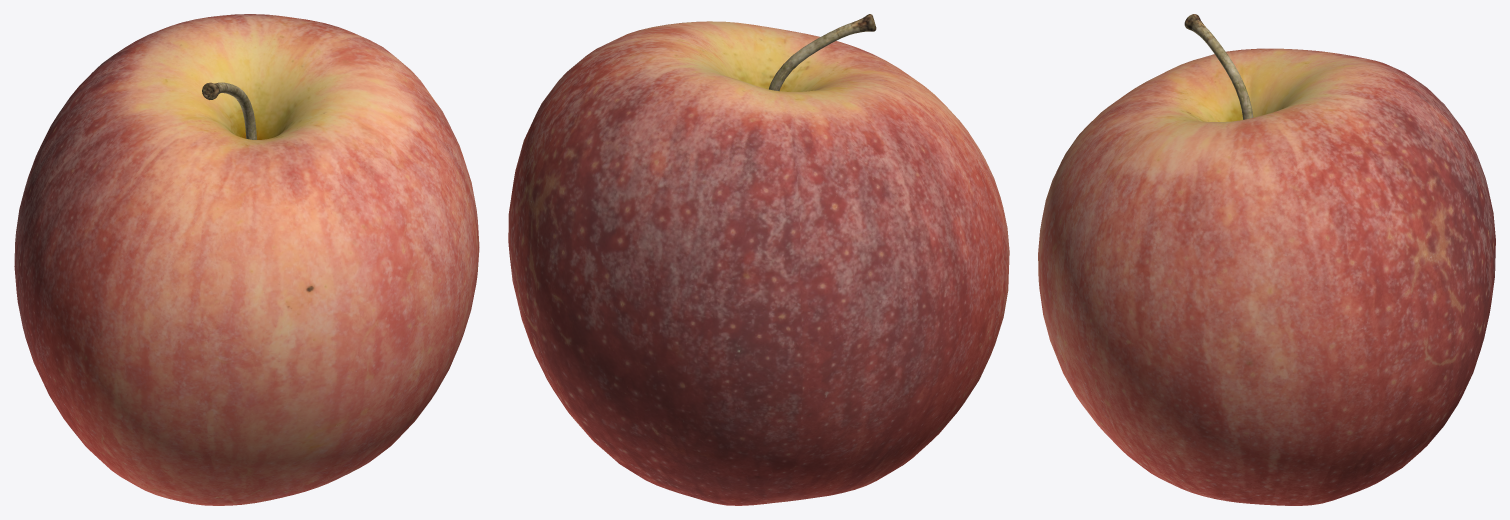
File: apple.gltf
3 renders of one model, left to right at view 1: azimuth 30°, elevation 25°; view 2: azimuth 150°, elevation 25°; view 3: azimuth 270°, elevation 25°, orthographic. The views are drawn at different scales.
Visible parts, largest first — view 1: AppleT4; view 2: AppleT4; view 3: AppleT4.
Boxes of the visible parts, <box> form: AppleT4: <box>14,14,479,505</box>; AppleT4: <box>508,14,1009,505</box>; AppleT4: <box>1038,14,1495,505</box>.
Bounding box in the file's own units: 0.0827 × 0.082 × 0.0808.
Materials: 2 (2 with a texture image).
